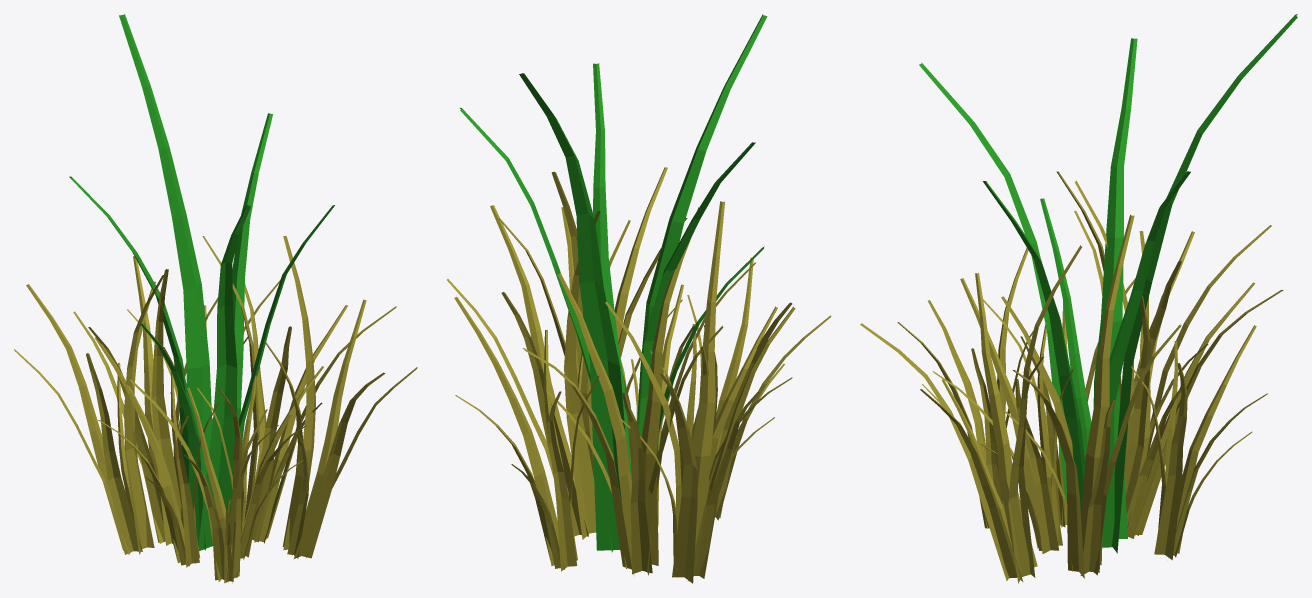
The model's file is grass_collectable.glb.
3 views of the same model, side by side, from view 1: azimuth 30°, elevation 25°; view 2: azimuth 150°, elevation 25°; view 3: azimuth 270°, elevation 25° (orthographic). The views are drawn at different scales.
Parts seen in each view (by area): view 1: Grass.000, Grass.007, Grass.005, Grass.001, Grass.003, Grass.002, Grass.006, Grass.004; view 2: Grass.000, Grass.007, Grass.003, Grass.001, Grass.008, Grass.005, Grass.006, Grass.002, Grass.004; view 3: Grass.000, Grass.001, Grass.005, Grass.003, Grass.008, Grass.004, Grass.006, Grass.007, Grass.002.
Part boxes in pixels (x1=…): Grass.000: x1=69, y1=14, x2=334, y2=550; Grass.007: x1=14, y1=275, x2=164, y2=554; Grass.005: x1=264, y1=235, x2=417, y2=558; Grass.001: x1=202, y1=236, x2=396, y2=543; Grass.003: x1=73, y1=256, x2=217, y2=545; Grass.002: x1=95, y1=337, x2=218, y2=567; Grass.006: x1=130, y1=379, x2=278, y2=583; Grass.004: x1=197, y1=366, x2=323, y2=559; Grass.000: x1=460, y1=14, x2=767, y2=552; Grass.007: x1=605, y1=201, x2=795, y2=583; Grass.003: x1=522, y1=207, x2=723, y2=575; Grass.001: x1=447, y1=205, x2=630, y2=539; Grass.008: x1=454, y1=297, x2=599, y2=571; Grass.005: x1=499, y1=167, x2=687, y2=458; Grass.006: x1=687, y1=257, x2=831, y2=520; Grass.002: x1=650, y1=306, x2=792, y2=491; Grass.004: x1=621, y1=262, x2=755, y2=526; Grass.000: x1=919, y1=14, x2=1297, y2=553; Grass.001: x1=1001, y1=214, x2=1181, y2=578; Grass.005: x1=860, y1=245, x2=1081, y2=583; Grass.003: x1=1074, y1=181, x2=1283, y2=538; Grass.008: x1=1130, y1=325, x2=1267, y2=560; Grass.004: x1=933, y1=278, x2=1073, y2=553; Grass.006: x1=897, y1=247, x2=1043, y2=528; Grass.007: x1=1056, y1=171, x2=1271, y2=455; Grass.002: x1=983, y1=278, x2=1135, y2=527.
Size of the model in its own units: 2.77 by 4.05 by 3.01.
